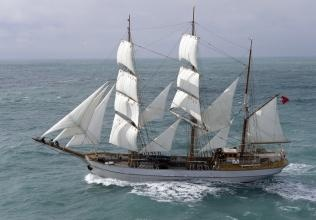fanchuan: (35, 10, 302, 180)
